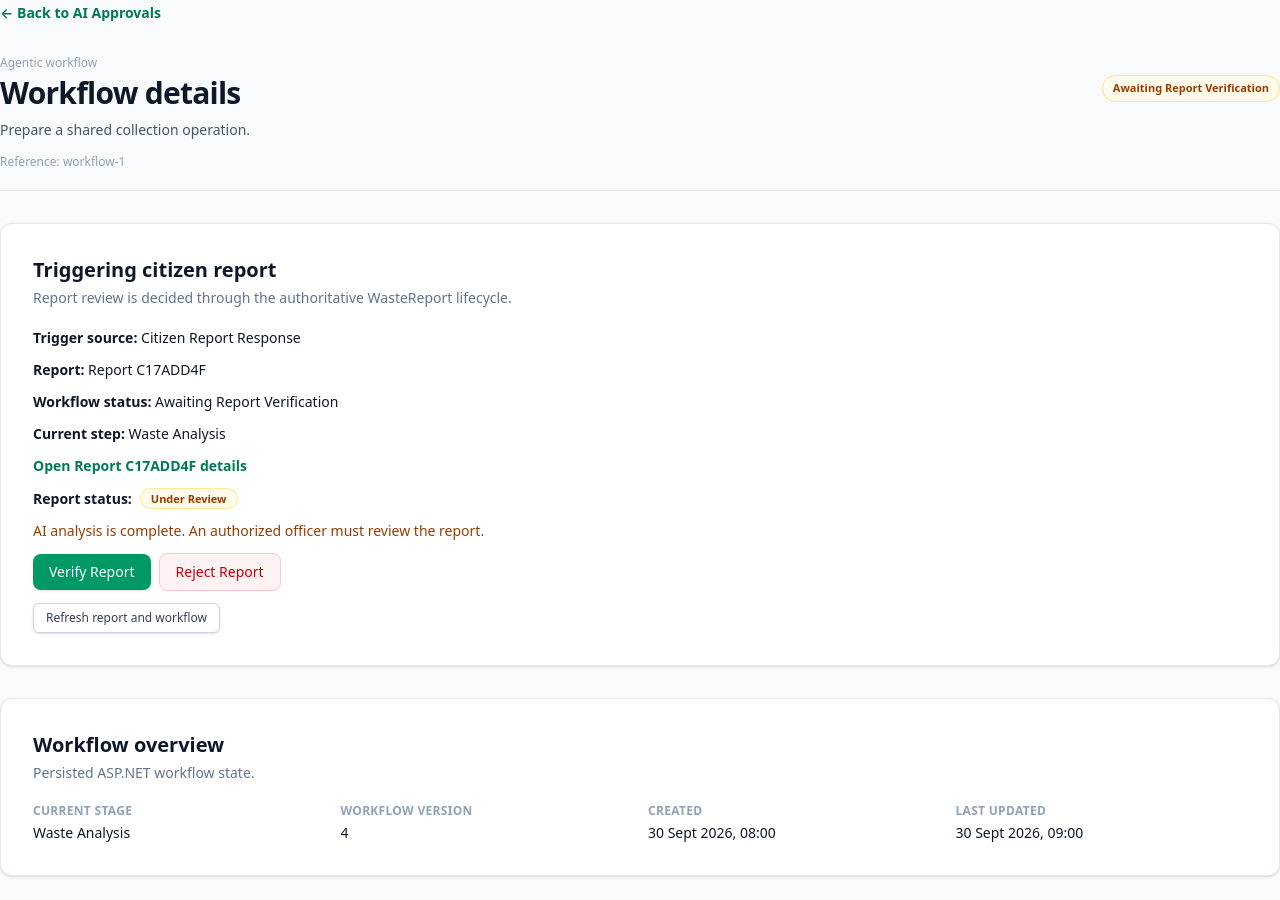
AiWorkflowDetailPage › lets WasteOfficer reject the report through the existing modal and shows the terminal workflow
The image size is (1280, 900).
Click the button "Reject Report".
click(220, 572)  # box [158,554,280,592]
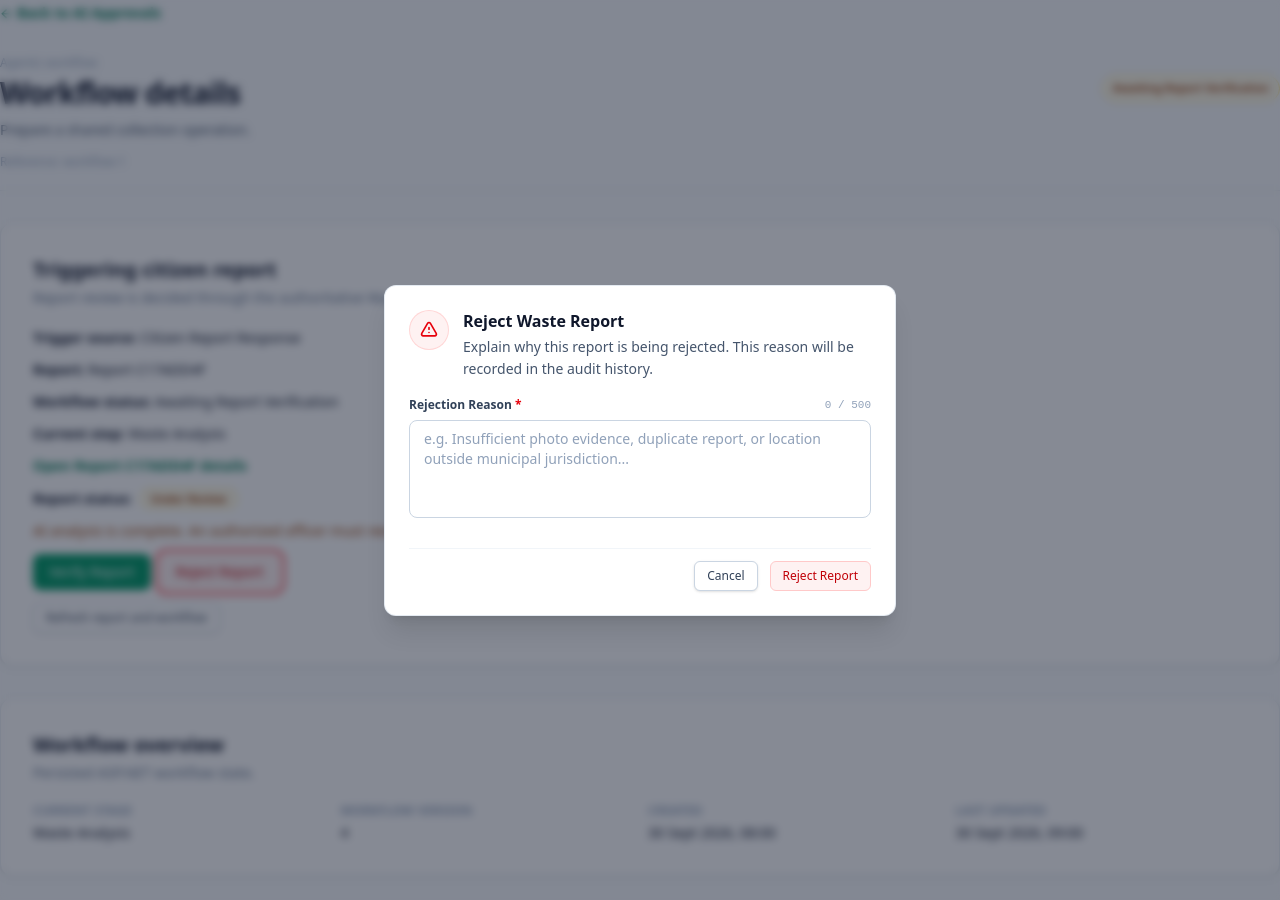
Type "Location cannot be verified." into the text box with test id "reject-reason-input".
click(640, 468); type("Location cannot be verified.")  # box [409,420,871,518]
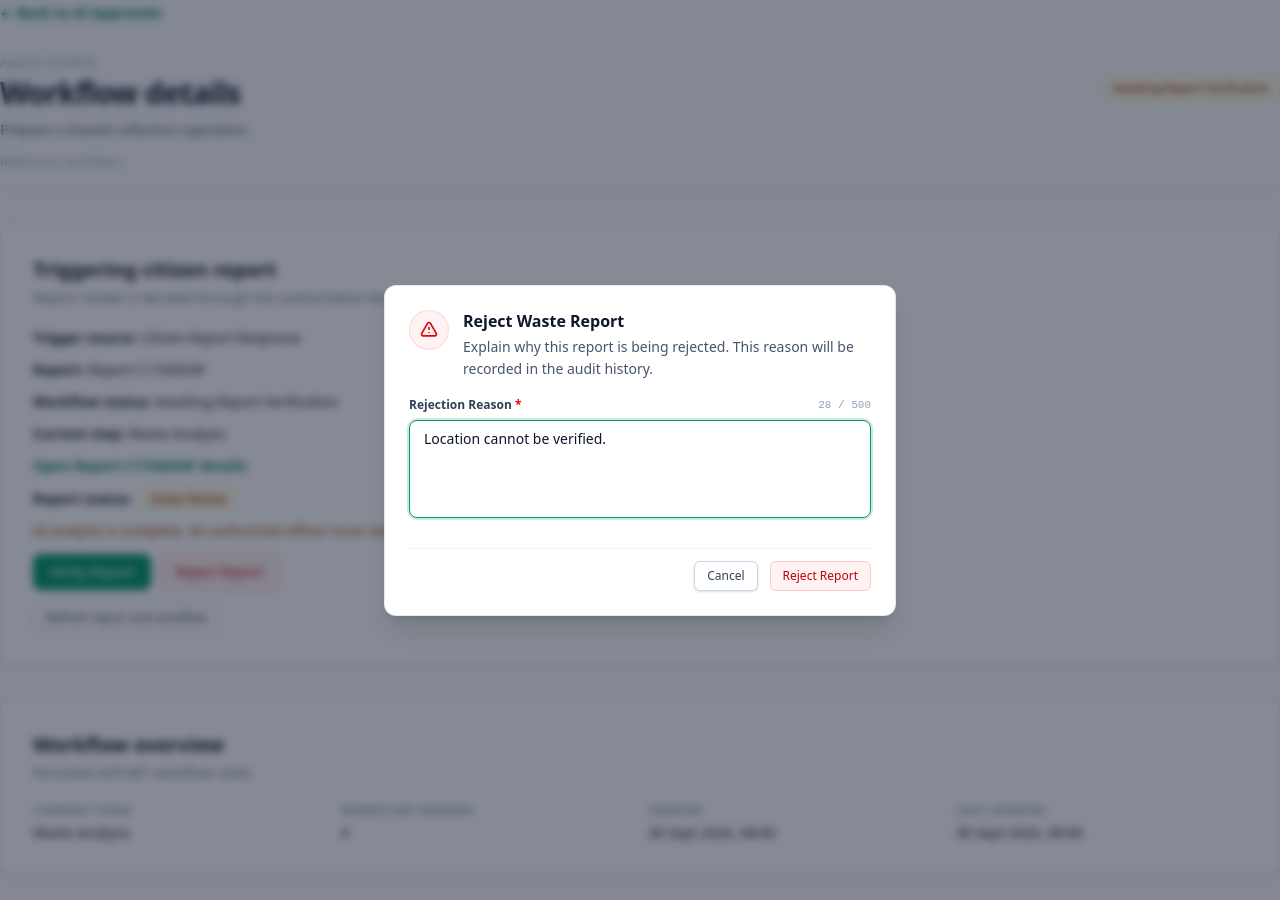
Click the button with test id "confirm-reject-report-button".
click(820, 576)  # box [770,560,871,590]
(page scrolled)
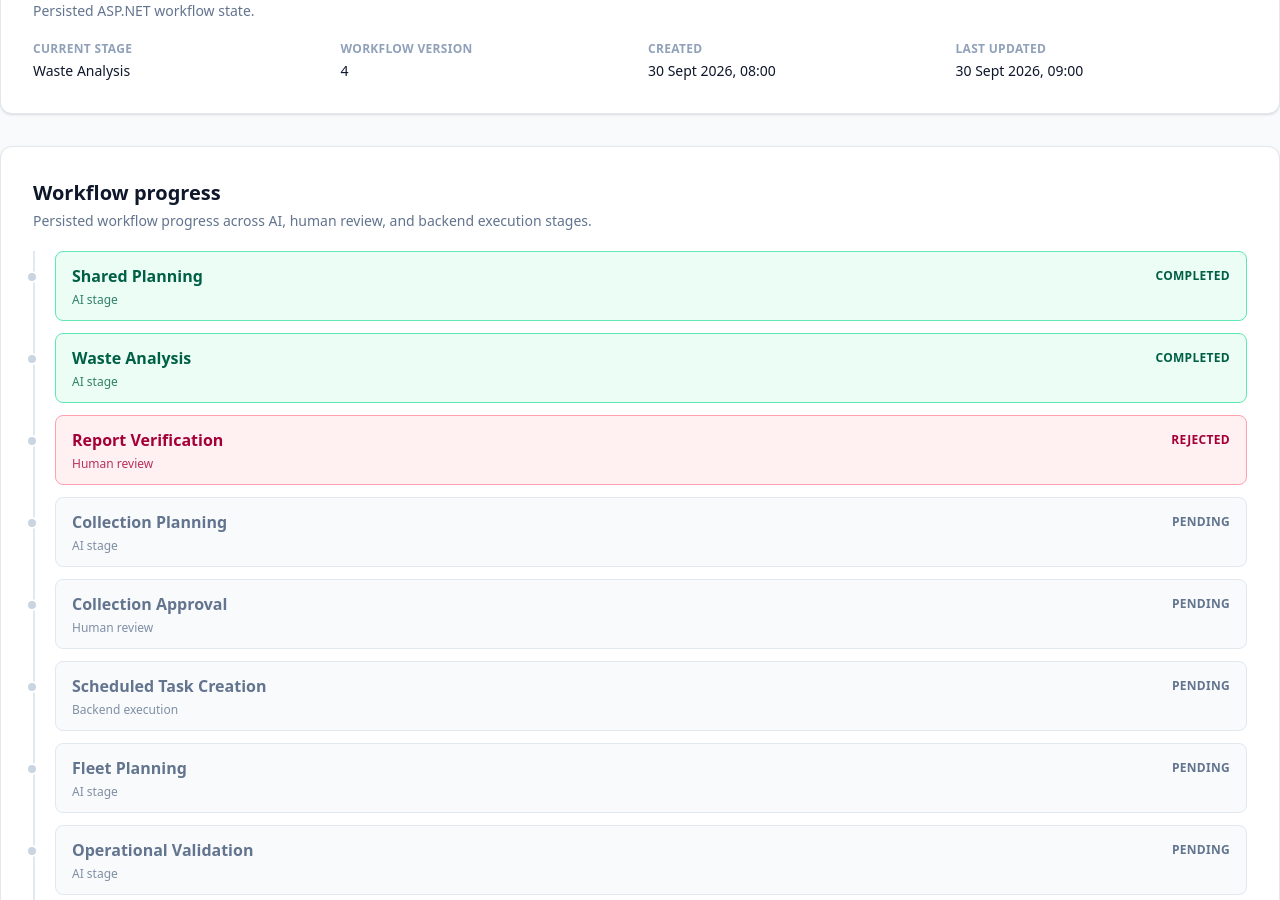
Result: the list item with aria-label "Report Verification: Rejected" is shown at [55,416,1247,486]
Result: the button "Verify Report" is gone
